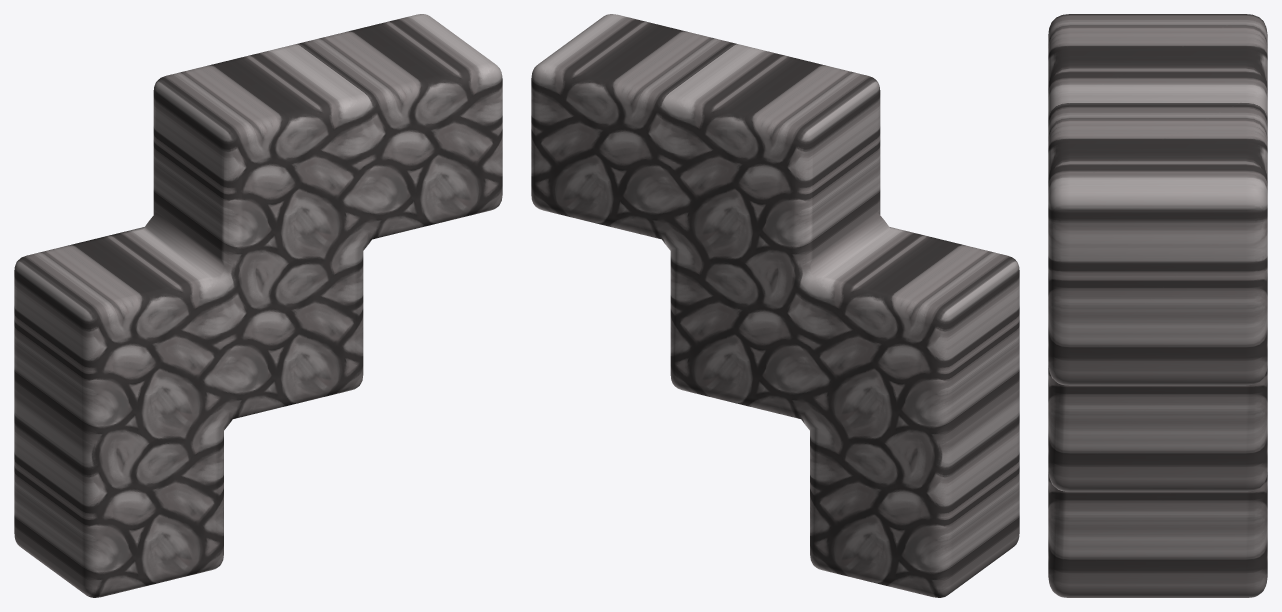
Rendered from W_block.FBX.
The picture shows the model from 3 angles, left to right: view 1: azimuth 30°, elevation 25°; view 2: azimuth 150°, elevation 25°; view 3: azimuth 270°, elevation 25°; orthographic projection. The views are drawn at different scales.
Parts seen in each view (by area): view 1: Box001; view 2: Box001; view 3: Box001.
Boxes of the visible parts, x1,y1,x2,y2 form: Box001: (14, 14, 502, 597); Box001: (531, 14, 1019, 597); Box001: (1048, 14, 1267, 597).
Bounding box in the file's own units: 3 × 3 × 1.
